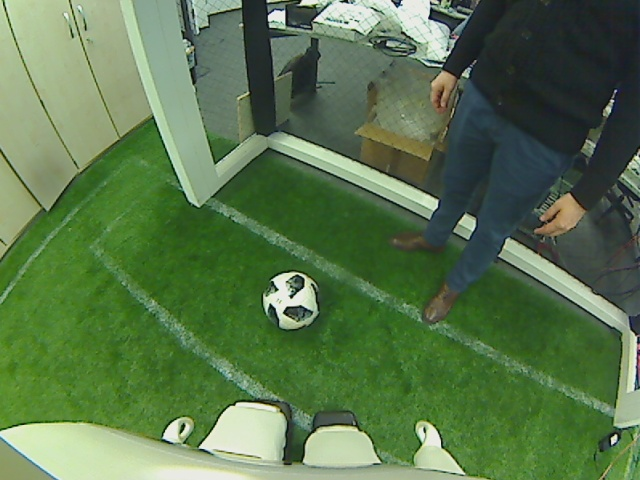ball: (260, 270, 321, 330)
